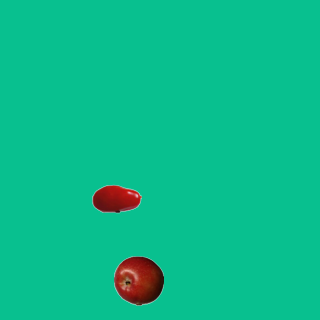Apple Braeburn: (113, 255, 163, 305)
Tomato 2: (91, 173, 141, 223)
